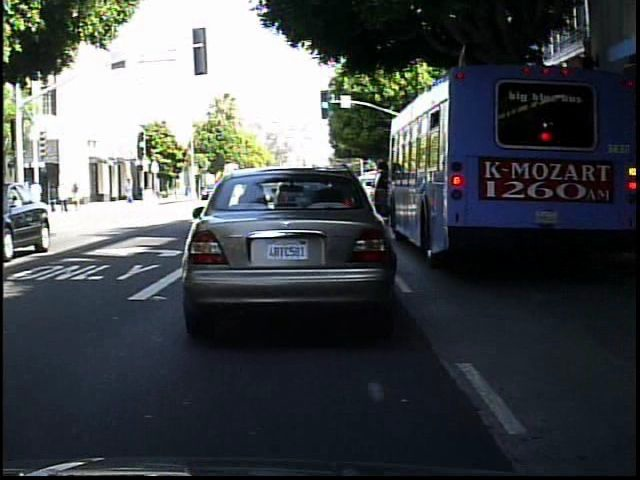person: (68, 176, 85, 214), (14, 179, 30, 219), (7, 179, 24, 216), (121, 173, 139, 207), (29, 178, 44, 218), (58, 176, 71, 213), (49, 181, 59, 207)
